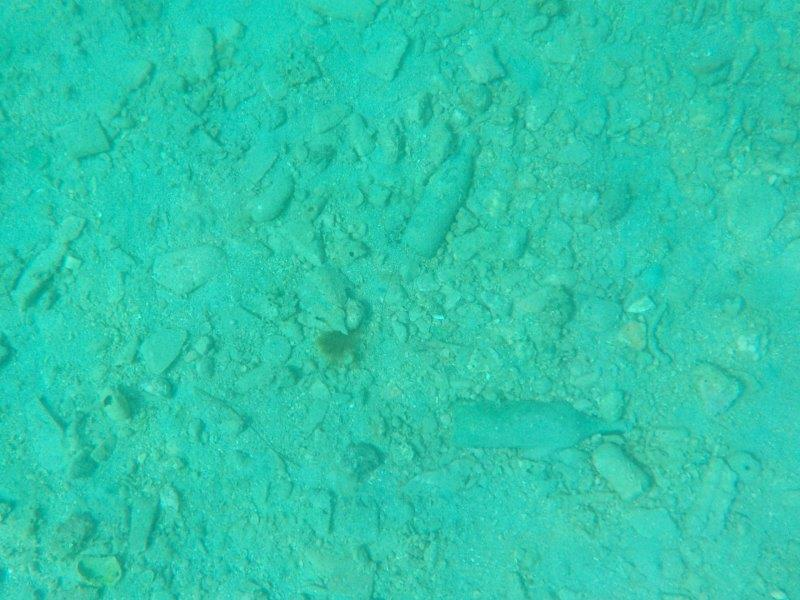bottle: (397, 130, 484, 262), (447, 395, 636, 455)
